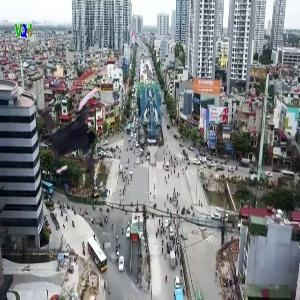drone: (23, 69, 145, 191)
